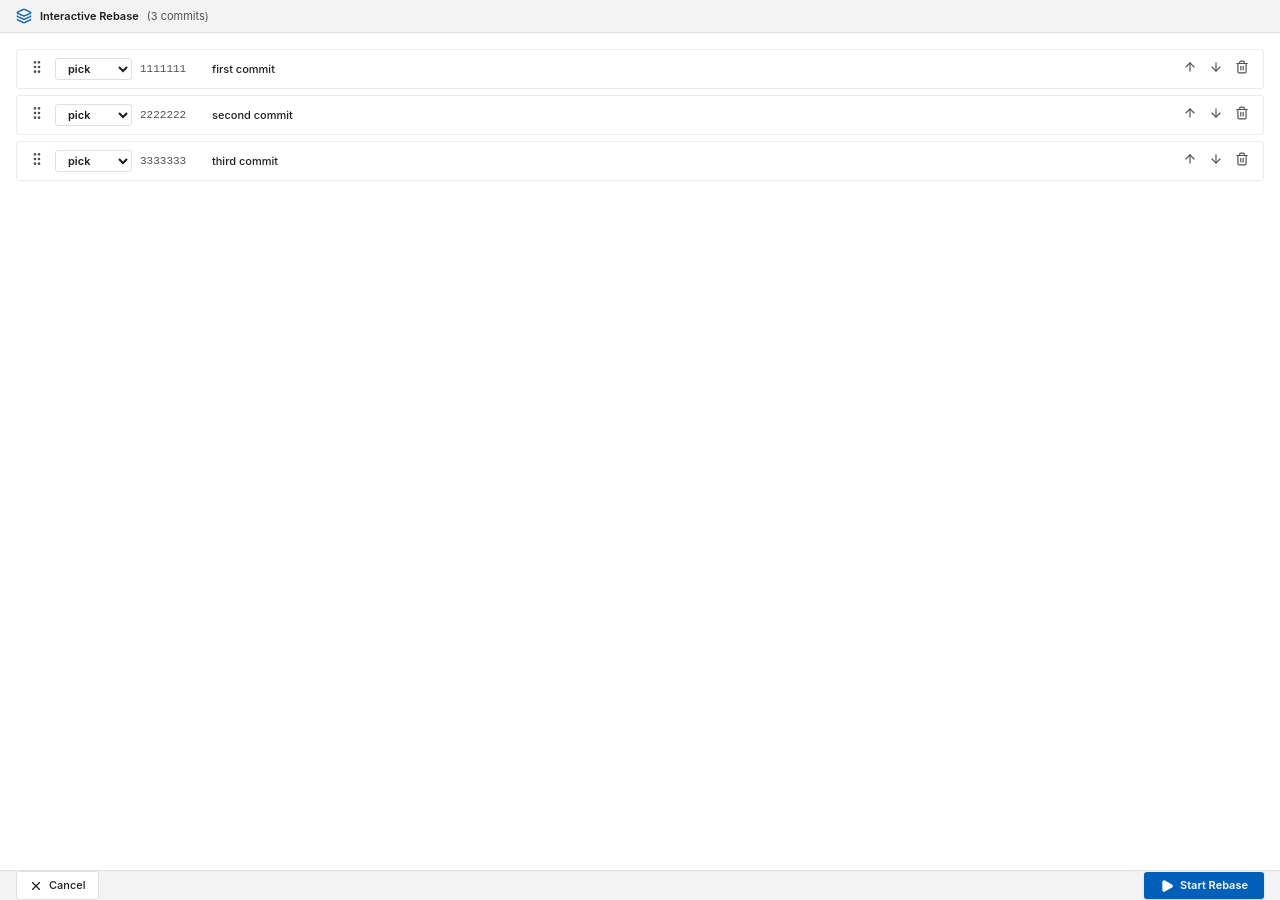
Test: InteractiveRebaseView Component › moves commits up and down using row buttons
What coordinates should you click on to do the following:
click the button titled "Move down"
I would click on:
 (1216, 69)
Its box is [1205, 56, 1227, 82].
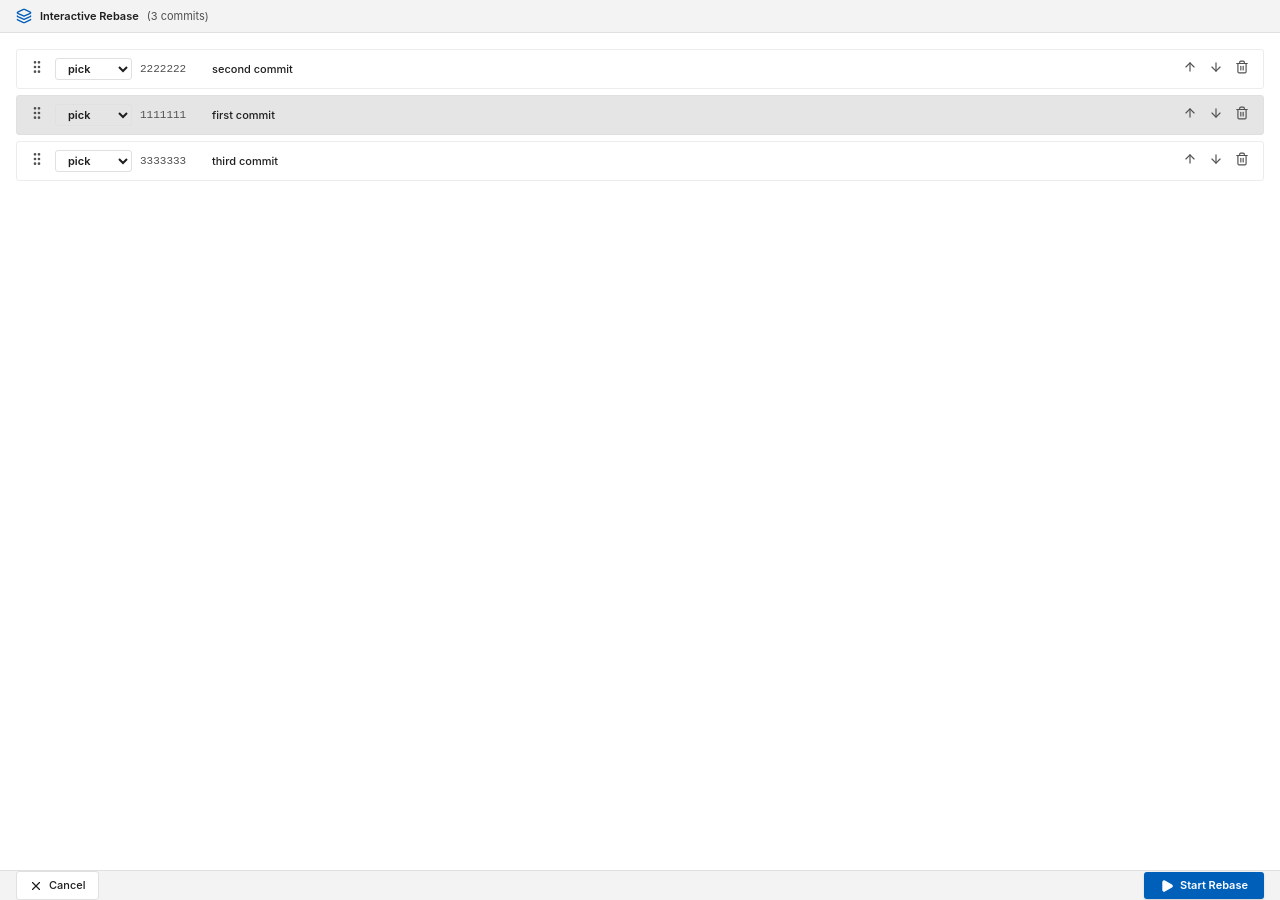
Expected: the text "second commit" is shown, [212, 62, 293, 76]
Expected: the text "first commit" is shown, [212, 108, 275, 122]
